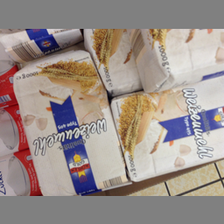flour: (12, 49, 132, 196), (110, 76, 224, 183)
